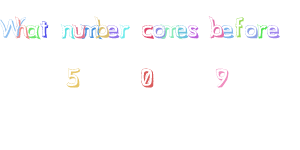0: (139, 66, 154, 89)
5: (66, 67, 81, 89)
9: (214, 67, 229, 88)
W: (1, 15, 19, 37)
a: (26, 24, 41, 38)
b: (208, 14, 223, 38), (95, 15, 108, 39)
c: (140, 24, 154, 39)
e: (175, 23, 188, 39), (267, 24, 281, 38), (220, 23, 233, 38), (106, 24, 119, 38)
f: (233, 15, 244, 37)
h: (15, 15, 29, 38)
m: (81, 23, 100, 39), (162, 23, 180, 38)
n: (60, 24, 75, 38)
o: (244, 24, 258, 38), (154, 24, 166, 38)
r: (119, 23, 130, 39), (257, 24, 267, 38)
s: (187, 23, 199, 38)
t: (40, 20, 48, 38)
u: (71, 23, 86, 38)
